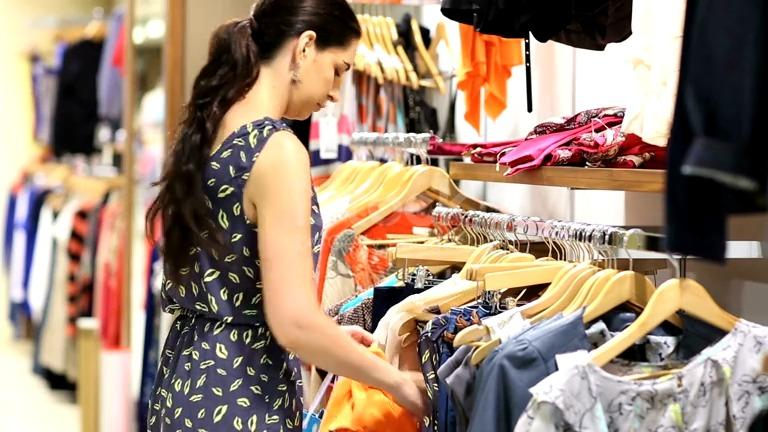Shoplifting: (129, 0, 449, 432)
